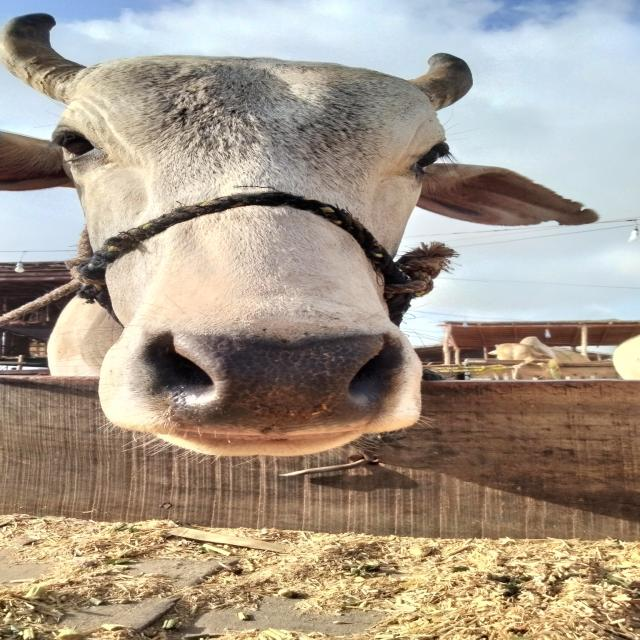muzzles: (125, 314, 423, 442)
